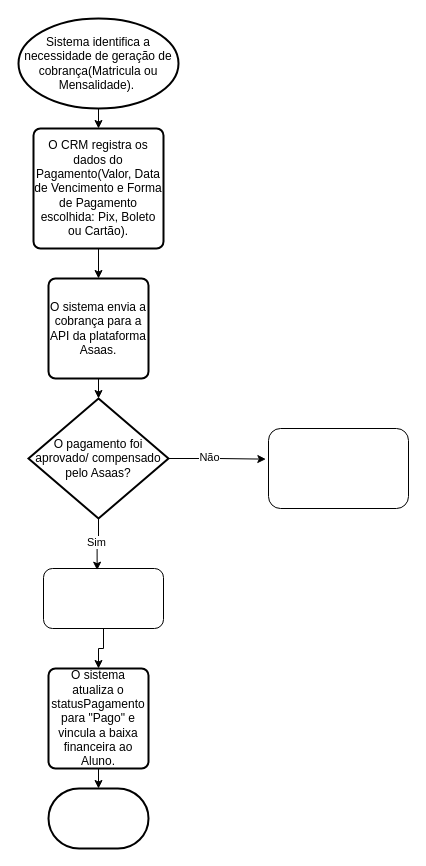
The diagram is 426 pixels wide and 866 high, and some of its shapes have lost their labels. Each missing label, with the centre of its shape:
A API do Asaas notifica o CRM via webhook.: point 103,598
O Pagamento permanece com statusPagamento = " Pendente" (aguardando vencimento).: point 338,468
Processo financeiro concluido.: point 98,818
